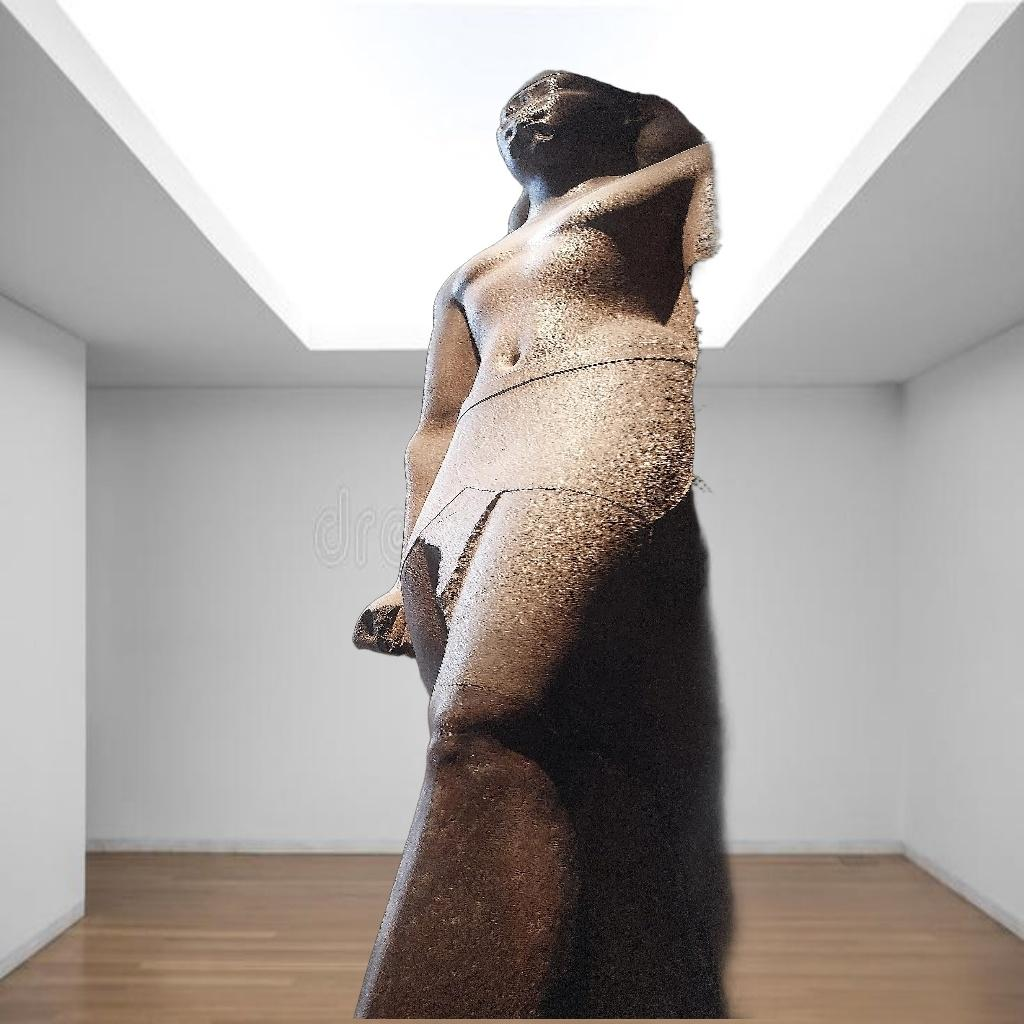Colossal Statue of Hormoheb: (338, 66, 792, 1019)
